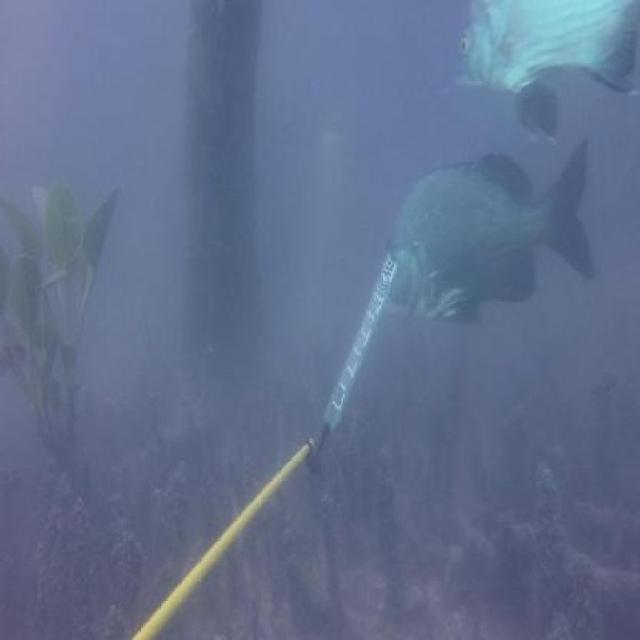acanthopagrus_palmaris: (379, 142, 598, 323), (452, 2, 640, 143)
